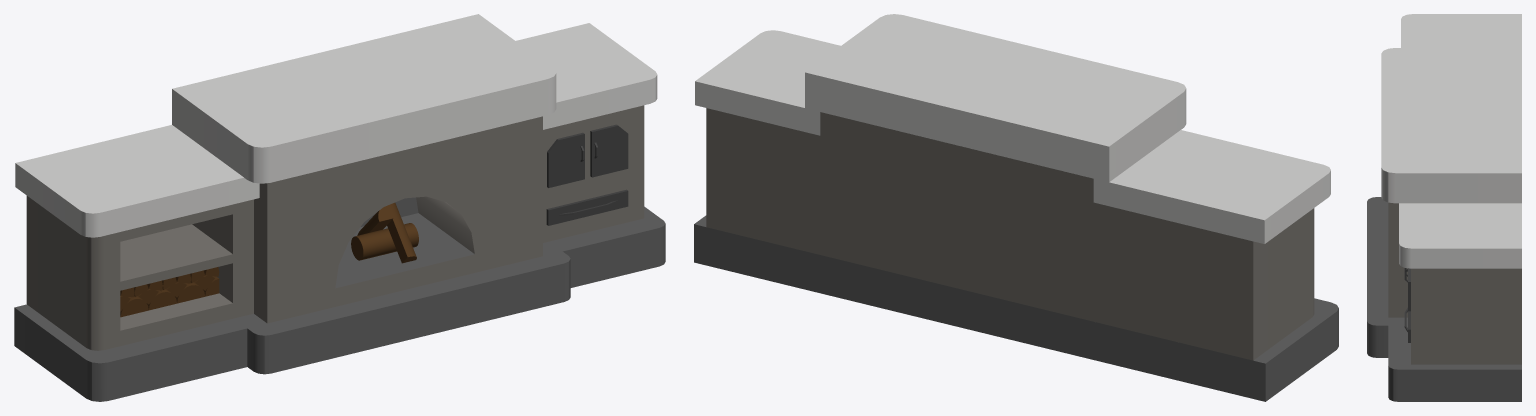
The model's file is StoveRight.fbx.
3 renders of one model, left to right at view 1: azimuth 30°, elevation 25°; view 2: azimuth 150°, elevation 25°; view 3: azimuth 270°, elevation 25°, orthographic. The views are drawn at different scales.
Visible parts, largest first — view 1: Stove_02_no_image:pCube4, Stove_02_no_image:Fireplace, Stove_02_no_image:Base, Stove_02_no_image:Storage, Stove_02_no_image:StorageTop, Stove_02_no_image:CabinetTop, Stove_02_no_image:Body, Stove_02_no_image:RCabinet, Stove_02_no_image:LCabinet, Stove_02_no_image:BCabinet, Stove_02_no_image:pCylinder2, Stove_02_no_image:pCylinder1; view 2: Stove_02_no_image:Fireplace, Stove_02_no_image:pCube4, Stove_02_no_image:Base, Stove_02_no_image:Storage, Stove_02_no_image:StorageTop, Stove_02_no_image:Body, Stove_02_no_image:CabinetTop; view 3: Stove_02_no_image:pCube4, Stove_02_no_image:Body, Stove_02_no_image:Base, Stove_02_no_image:CabinetTop, Stove_02_no_image:StorageTop, Stove_02_no_image:Fireplace.
Boxes of the visible parts, x1,y1,x2,y2 form: Stove_02_no_image:pCube4: (172, 14, 556, 183); Stove_02_no_image:Fireplace: (254, 116, 542, 323); Stove_02_no_image:Base: (14, 206, 665, 401); Stove_02_no_image:Storage: (26, 196, 253, 350); Stove_02_no_image:StorageTop: (15, 125, 259, 237); Stove_02_no_image:CabinetTop: (516, 23, 657, 129); Stove_02_no_image:Body: (543, 105, 644, 242); Stove_02_no_image:RCabinet: (590, 124, 628, 177); Stove_02_no_image:LCabinet: (547, 132, 584, 187); Stove_02_no_image:BCabinet: (546, 189, 628, 225); Stove_02_no_image:pCylinder2: (351, 223, 418, 260); Stove_02_no_image:pCylinder1: (387, 202, 416, 263); Stove_02_no_image:Fireplace: (820, 112, 1093, 321); Stove_02_no_image:pCube4: (805, 14, 1186, 182); Stove_02_no_image:Base: (694, 215, 1338, 401); Stove_02_no_image:Storage: (1093, 202, 1314, 360); Stove_02_no_image:StorageTop: (1093, 130, 1330, 243); Stove_02_no_image:Body: (706, 108, 820, 254); Stove_02_no_image:CabinetTop: (695, 30, 840, 135); Stove_02_no_image:pCube4: (1381, 48, 1521, 203); Stove_02_no_image:Body: (1411, 268, 1521, 364); Stove_02_no_image:Base: (1367, 197, 1521, 401); Stove_02_no_image:CabinetTop: (1399, 203, 1521, 268); Stove_02_no_image:StorageTop: (1401, 14, 1521, 47); Stove_02_no_image:Fireplace: (1388, 202, 1407, 317).
Size of the model in its own units: 3.43 by 1.24 by 0.9527.
